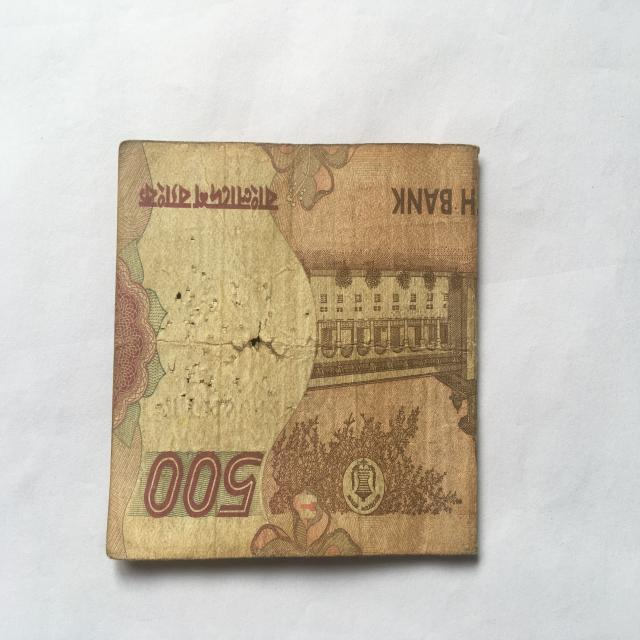Taka: (106, 134, 486, 554)
